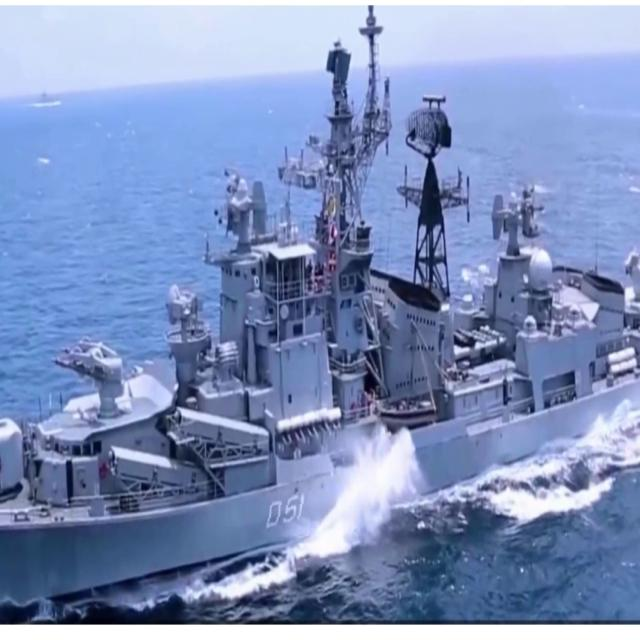OCR: (263, 487, 313, 538)
